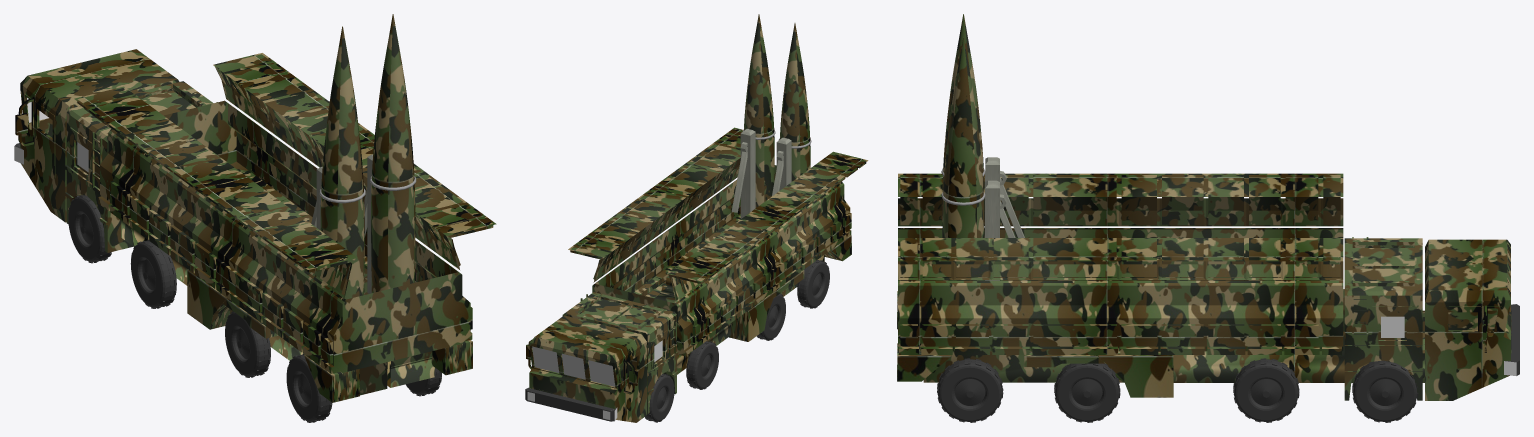
Rendered from l_iskander.glb.
3 renders of one model, left to right at view 1: azimuth 30°, elevation 25°; view 2: azimuth 150°, elevation 25°; view 3: azimuth 270°, elevation 25°, orthographic. The views are drawn at different scales.
Parts seen in each view (by area): view 1: body|Mat.1, tbm|Mat.1, body|Mat.5, tbm2|Mat.1, body|material; view 2: body|Mat.1, body|Mat.5, tbm|Mat.1, tbm2|Mat.1, body|material, body|material_4; view 3: body|Mat.1, body|Mat.5, tbm|Mat.1, body|material, tbm2|Mat.1.
Part boxes in pixels (x1,y1,x2,y2): body|Mat.1: (15, 49, 496, 402); tbm|Mat.1: (371, 14, 415, 292); body|Mat.5: (14, 143, 441, 422); tbm2|Mat.1: (320, 26, 364, 299); body|material: (311, 154, 372, 293); body|Mat.1: (526, 127, 868, 422); body|Mat.5: (525, 259, 829, 422); tbm|Mat.1: (744, 14, 774, 207); tbm2|Mat.1: (779, 23, 810, 181); body|material: (731, 128, 791, 218); body|material_4: (527, 340, 662, 419); body|Mat.1: (897, 173, 1511, 400); body|Mat.5: (937, 304, 1519, 422); tbm|Mat.1: (942, 37, 984, 280); body|material: (985, 157, 1027, 280); tbm2|Mat.1: (942, 14, 984, 219).
Bounding box in the file's own units: 4.33 × 8.52 × 13.02.
Materials: 8 (4 with a texture image).
